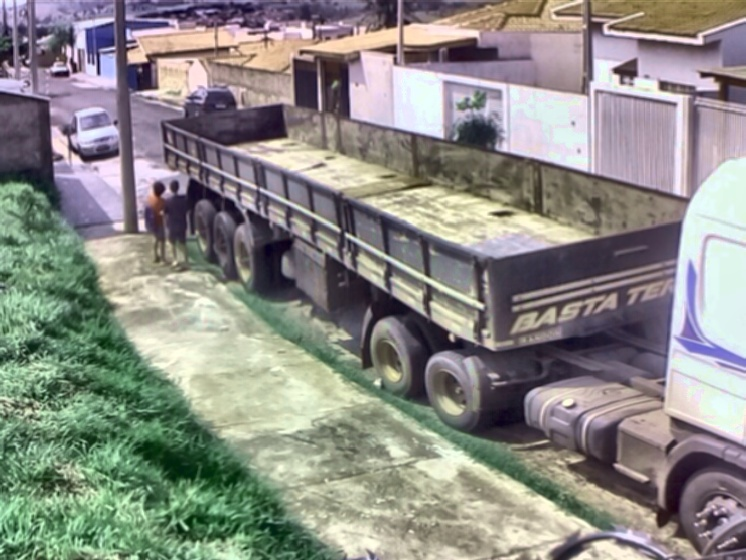person: (163, 179, 194, 271), (143, 179, 174, 270)
